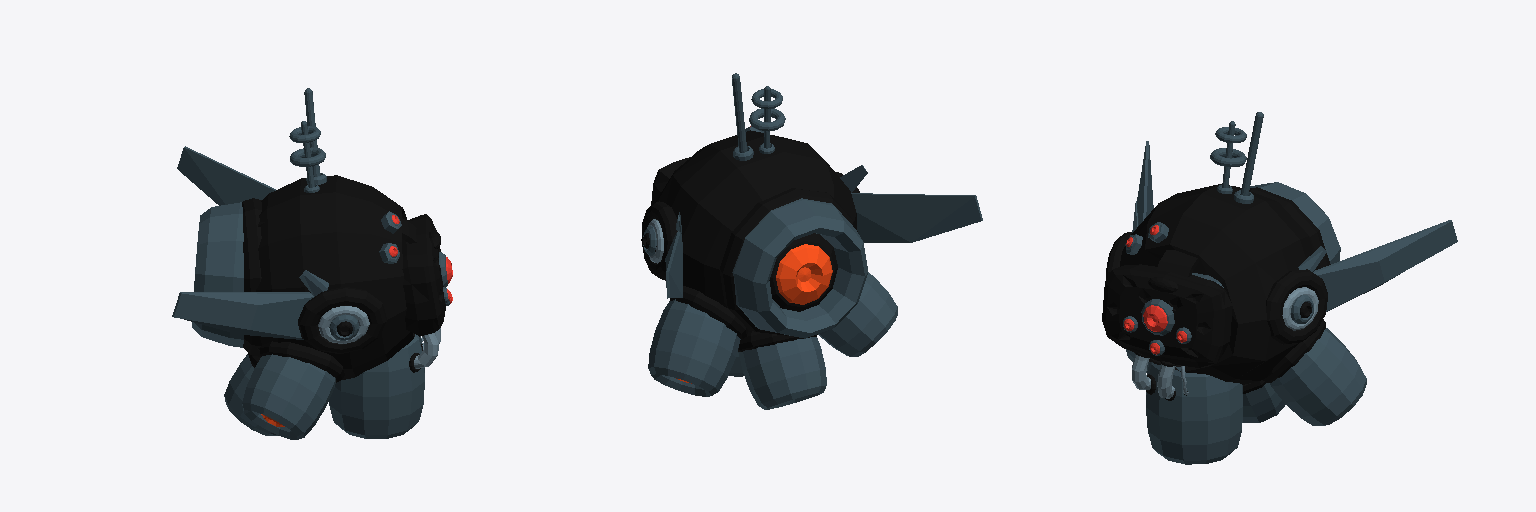
3 views of the same model, side by side, from view 1: azimuth 30°, elevation 25°; view 2: azimuth 150°, elevation 25°; view 3: azimuth 270°, elevation 25° (orthographic).
Visible parts, largest first — view 1: group[number redacted], group[number redacted], group[number redacted], group[number redacted], group[number redacted], group[number redacted], group[number redacted], group[number redacted], group[number redacted], group[number redacted], group[number redacted], group[number redacted] (+4 smaller); view 2: group[number redacted], group[number redacted], group[number redacted], group[number redacted], group[number redacted], group[number redacted], group[number redacted], group[number redacted], group[number redacted], group[number redacted], group[number redacted], group[number redacted] (+3 smaller); view 3: group[number redacted], group[number redacted], group[number redacted], group[number redacted], group[number redacted], group[number redacted], group[number redacted], group[number redacted], group[number redacted], group[number redacted], group[number redacted], group[number redacted] (+4 smaller).
Boxes of the visible parts, x1=… form: group[number redacted]: x1=256, y1=175, x2=414, y2=379; group[number redacted]: x1=329, y1=334, x2=424, y2=438; group[number redacted]: x1=242, y1=354, x2=335, y2=439; group[number redacted]: x1=172, y1=292, x2=313, y2=339; group[number redacted]: x1=192, y1=202, x2=243, y2=347; group[number redacted]: x1=258, y1=214, x2=445, y2=336; group[number redacted]: x1=298, y1=287, x2=386, y2=353; group[number redacted]: x1=177, y1=146, x2=275, y2=205; group[number redacted]: x1=242, y1=198, x2=261, y2=356; group[number redacted]: x1=260, y1=341, x2=344, y2=382; group[number redacted]: x1=289, y1=121, x2=325, y2=192; group[number redacted]: x1=224, y1=354, x2=277, y2=435; group[number redacted]: x1=655, y1=130, x2=857, y2=331; group[number redacted]: x1=732, y1=198, x2=867, y2=338; group[number redacted]: x1=648, y1=299, x2=740, y2=396; group[number redacted]: x1=851, y1=193, x2=982, y2=242; group[number redacted]: x1=738, y1=337, x2=826, y2=409; group[number redacted]: x1=769, y1=233, x2=837, y2=311; group[number redacted]: x1=818, y1=272, x2=897, y2=356; group[number redacted]: x1=720, y1=188, x2=853, y2=335; group[number redacted]: x1=749, y1=86, x2=785, y2=153; group[number redacted]: x1=641, y1=201, x2=677, y2=279; group[number redacted]: x1=670, y1=286, x2=747, y2=340; group[number redacted]: x1=665, y1=231, x2=682, y2=298; group[number redacted]: x1=1120, y1=184, x2=1318, y2=384; group[number redacted]: x1=1102, y1=250, x2=1232, y2=367; group[number redacted]: x1=1146, y1=362, x2=1242, y2=464; group[number redacted]: x1=1269, y1=328, x2=1366, y2=425; group[number redacted]: x1=1313, y1=220, x2=1457, y2=311; group[number redacted]: x1=1266, y1=269, x2=1327, y2=344; group[number redacted]: x1=1250, y1=182, x2=1340, y2=263; group[number redacted]: x1=1210, y1=121, x2=1246, y2=193; group[number redacted]: x1=1243, y1=383, x2=1285, y2=422; group[number redacted]: x1=1249, y1=187, x2=1330, y2=268; group[number redacted]: x1=1141, y1=299, x2=1174, y2=335; group[number redacted]: x1=1234, y1=112, x2=1263, y2=203.
Bounding box in the file's own units: 2.68 × 2.83 × 2.77.